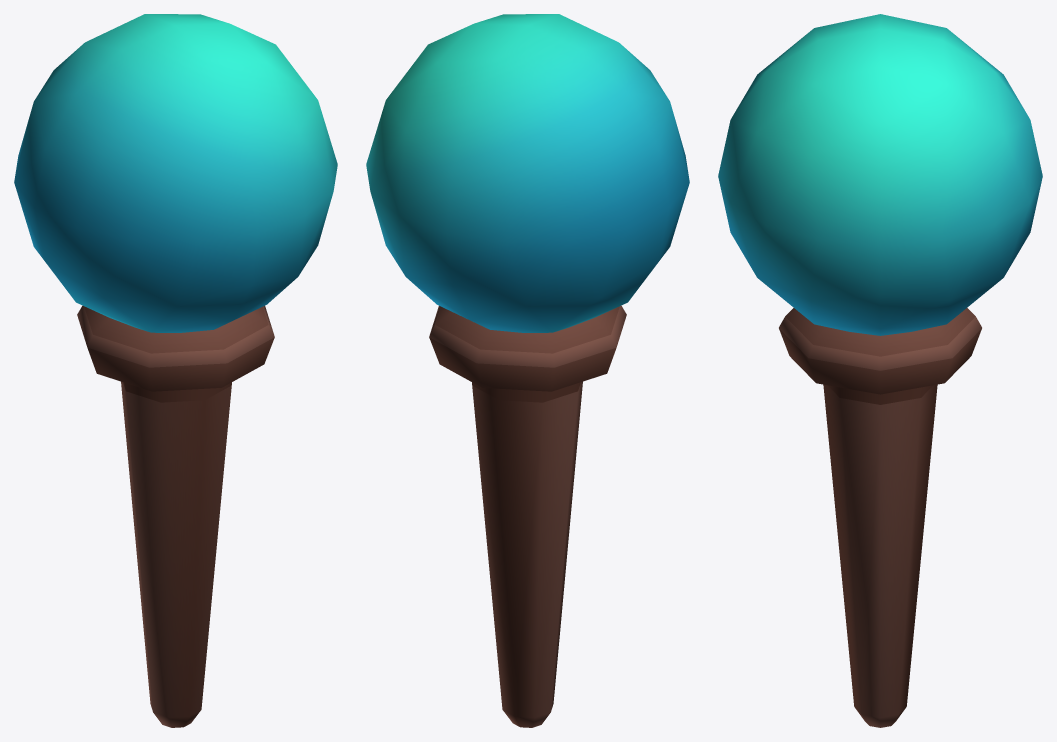
Rendered from staff_1.FBX.
3 renders of one model, left to right at view 1: azimuth 30°, elevation 25°; view 2: azimuth 150°, elevation 25°; view 3: azimuth 270°, elevation 25°, orthographic.
Visible parts, largest first — view 1: staff_1; view 2: staff_1; view 3: staff_1.
Part boxes in pixels (bbox=[...]): staff_1: bbox=[14, 14, 337, 727]; staff_1: bbox=[366, 14, 689, 727]; staff_1: bbox=[718, 14, 1042, 727].
Bounding box in the file's own units: 32.5 × 76.8 × 32.5.
Materials: 1 (1 with a texture image).
